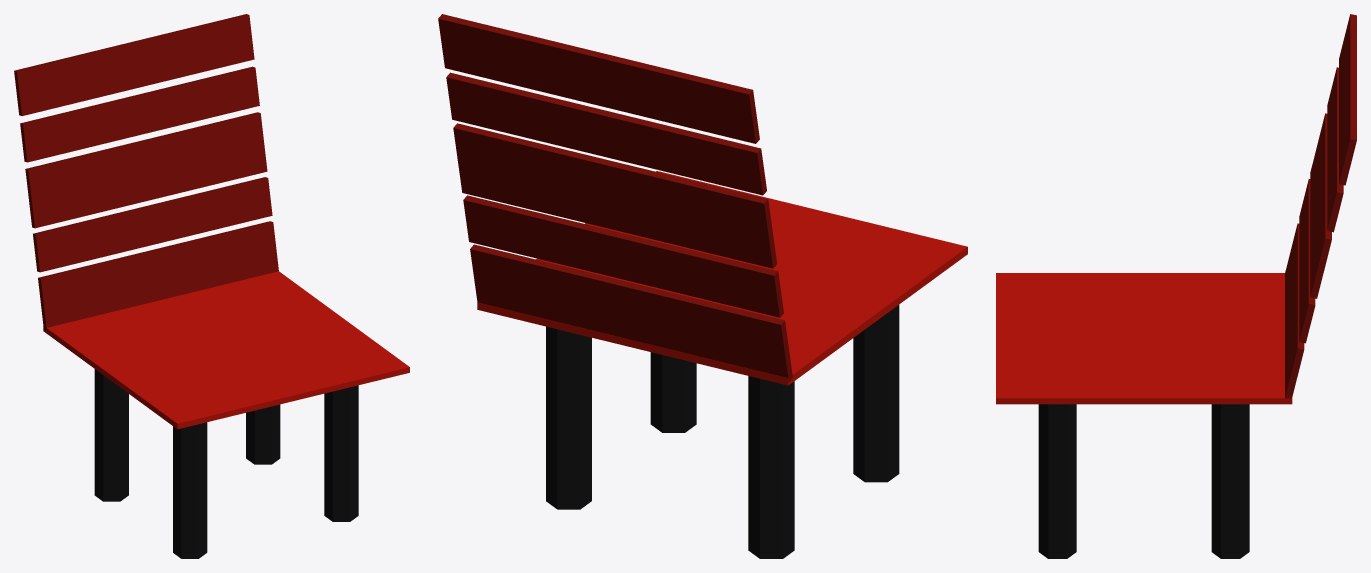
File: Bench_1.fbx
3 views of the same model, side by side, from view 1: azimuth 30°, elevation 25°; view 2: azimuth 150°, elevation 25°; view 3: azimuth 270°, elevation 25° (orthographic). The views are drawn at different scales.
Visible parts, largest first — view 1: Plane.013; view 2: Plane.013; view 3: Plane.013.
Part boxes in pixels (<box>): Plane.013: <box>14,14,409,558</box>; Plane.013: <box>438,14,967,558</box>; Plane.013: <box>996,14,1356,558</box>.
Bounding box in the file's own units: 62.05 × 100 × 75.62.
